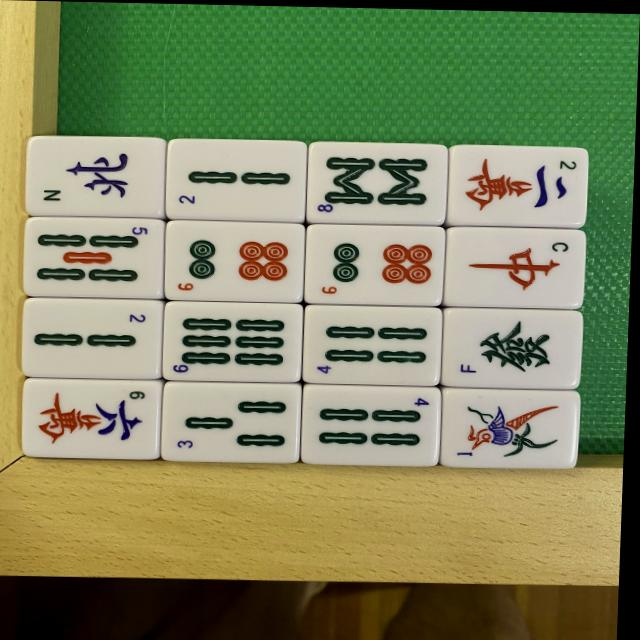fa: (446, 311, 577, 384)
m2: (452, 149, 587, 221)
m6: (28, 386, 155, 452)
north: (29, 134, 170, 218)
s1: (445, 391, 581, 471)
s2: (171, 139, 309, 223), (27, 304, 159, 371)
s3: (168, 389, 293, 461)
s4: (303, 307, 437, 388), (307, 393, 434, 459)
s5: (30, 221, 162, 294)
s6: (169, 306, 294, 379)
s8: (312, 146, 441, 219)
t6: (166, 221, 303, 300), (309, 230, 436, 301), (170, 227, 294, 299)
zhong: (451, 231, 580, 302)
